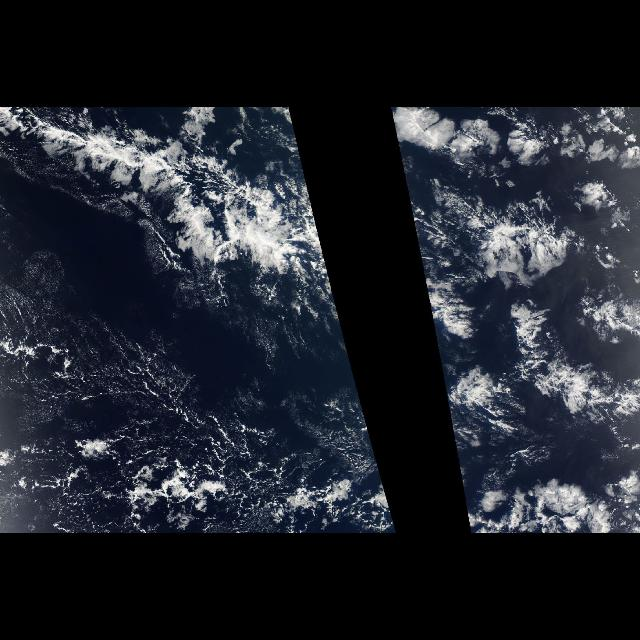Fish: (11, 108, 336, 298)
